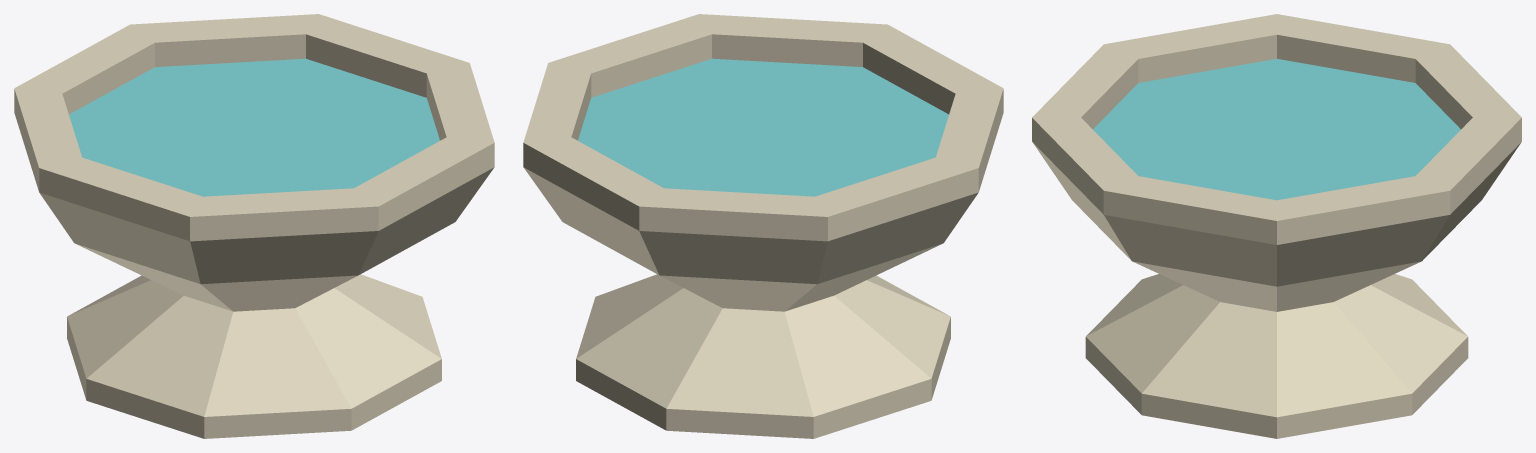
The model's file is roman_fountain_small.fbx.
The picture shows the model from 3 angles, left to right: view 1: azimuth 30°, elevation 25°; view 2: azimuth 150°, elevation 25°; view 3: azimuth 270°, elevation 25°; orthographic projection.
Parts seen in each view (by area): view 1: Cylinder.005, Cylinder.014; view 2: Cylinder.005, Cylinder.014; view 3: Cylinder.005, Cylinder.014.
Part boxes in pixels (<box>): Cylinder.005: <box>14,14,494,438</box>; Cylinder.014: <box>69,58,439,196</box>; Cylinder.005: <box>523,14,1003,438</box>; Cylinder.014: <box>578,58,948,196</box>; Cylinder.005: <box>1032,14,1521,438</box>; Cylinder.014: <box>1093,59,1460,200</box>.
Bounding box in the file's own units: 2.21 × 1.2 × 2.21.
